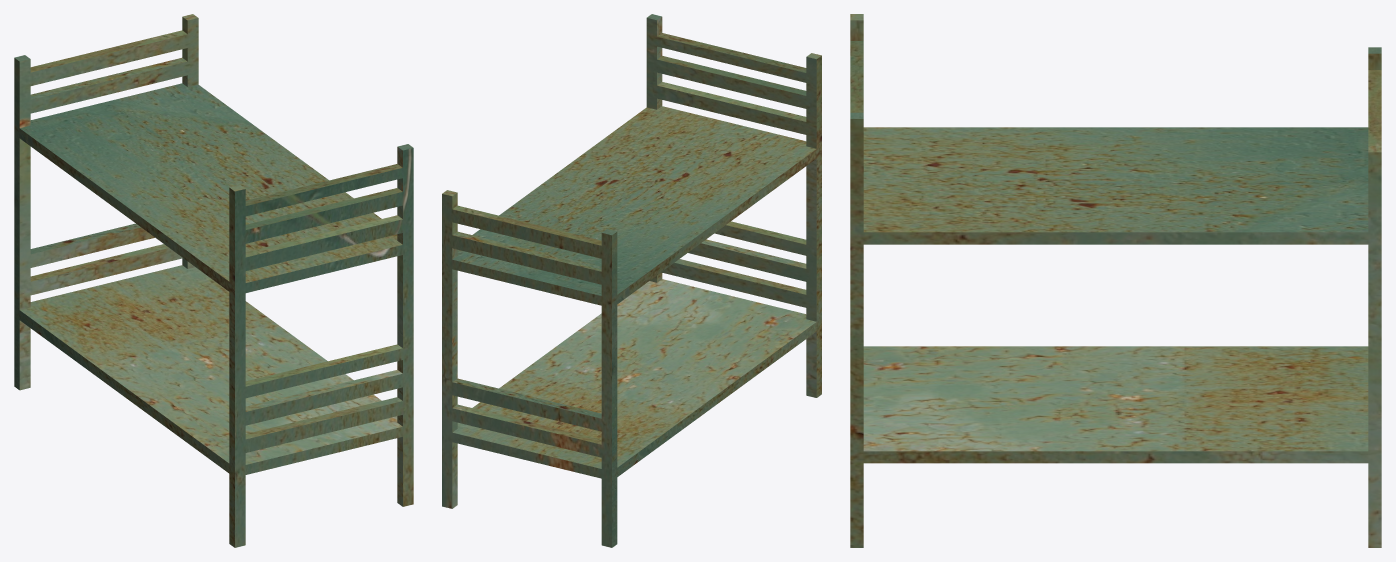
Rendered from BunkBedFBX.FBX.
The picture shows the model from 3 angles, left to right: view 1: azimuth 30°, elevation 25°; view 2: azimuth 150°, elevation 25°; view 3: azimuth 270°, elevation 25°; orthographic projection. The views are drawn at different scales.
Parts seen in each view (by area): view 1: BunkBed; view 2: BunkBed; view 3: BunkBed.
Boxes of the visible parts, left/top/right/bottom form: BunkBed: left=14, top=14, right=413, bottom=547; BunkBed: left=442, top=14, right=821, bottom=547; BunkBed: left=850, top=14, right=1381, bottom=547.
Size of the model in its own units: 6.66 by 12.69 by 14.24.
